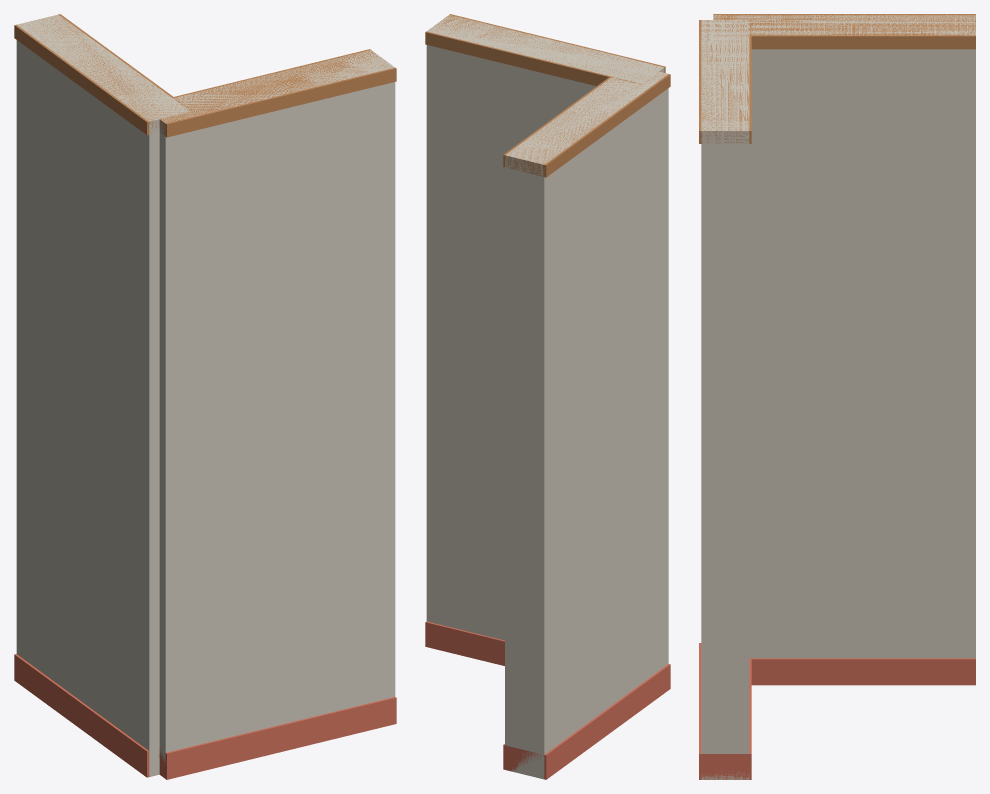
The model's file is bakery_loft_wall_corner.glb.
The picture shows the model from 3 angles, left to right: view 1: azimuth 30°, elevation 25°; view 2: azimuth 150°, elevation 25°; view 3: azimuth 270°, elevation 25°; orthographic projection. The views are drawn at different scales.
Visible parts, largest first — view 1: bakery_loft_wall_corner; view 2: bakery_loft_wall_corner; view 3: bakery_loft_wall_corner.
Boxes of the visible parts, <box> form: bakery_loft_wall_corner: <box>14,14,396,779</box>; bakery_loft_wall_corner: <box>425,14,670,779</box>; bakery_loft_wall_corner: <box>699,14,975,779</box>.
Size of the model in its own units: 1.16 by 3 by 1.16.
